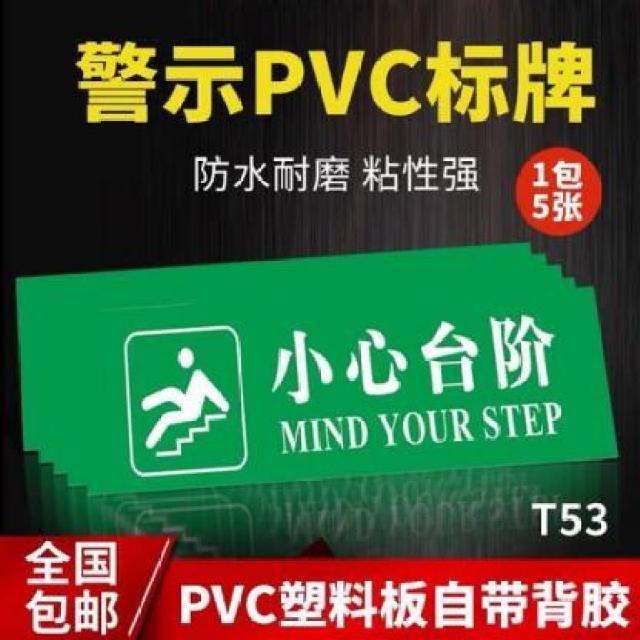exit_sign: (16, 270, 624, 486)
